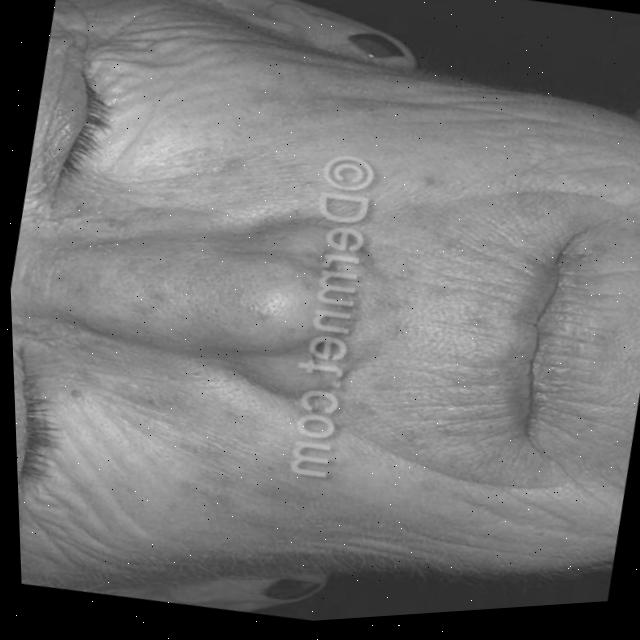Rosacea: (72, 347, 388, 560), (118, 48, 399, 248), (18, 196, 308, 384)
